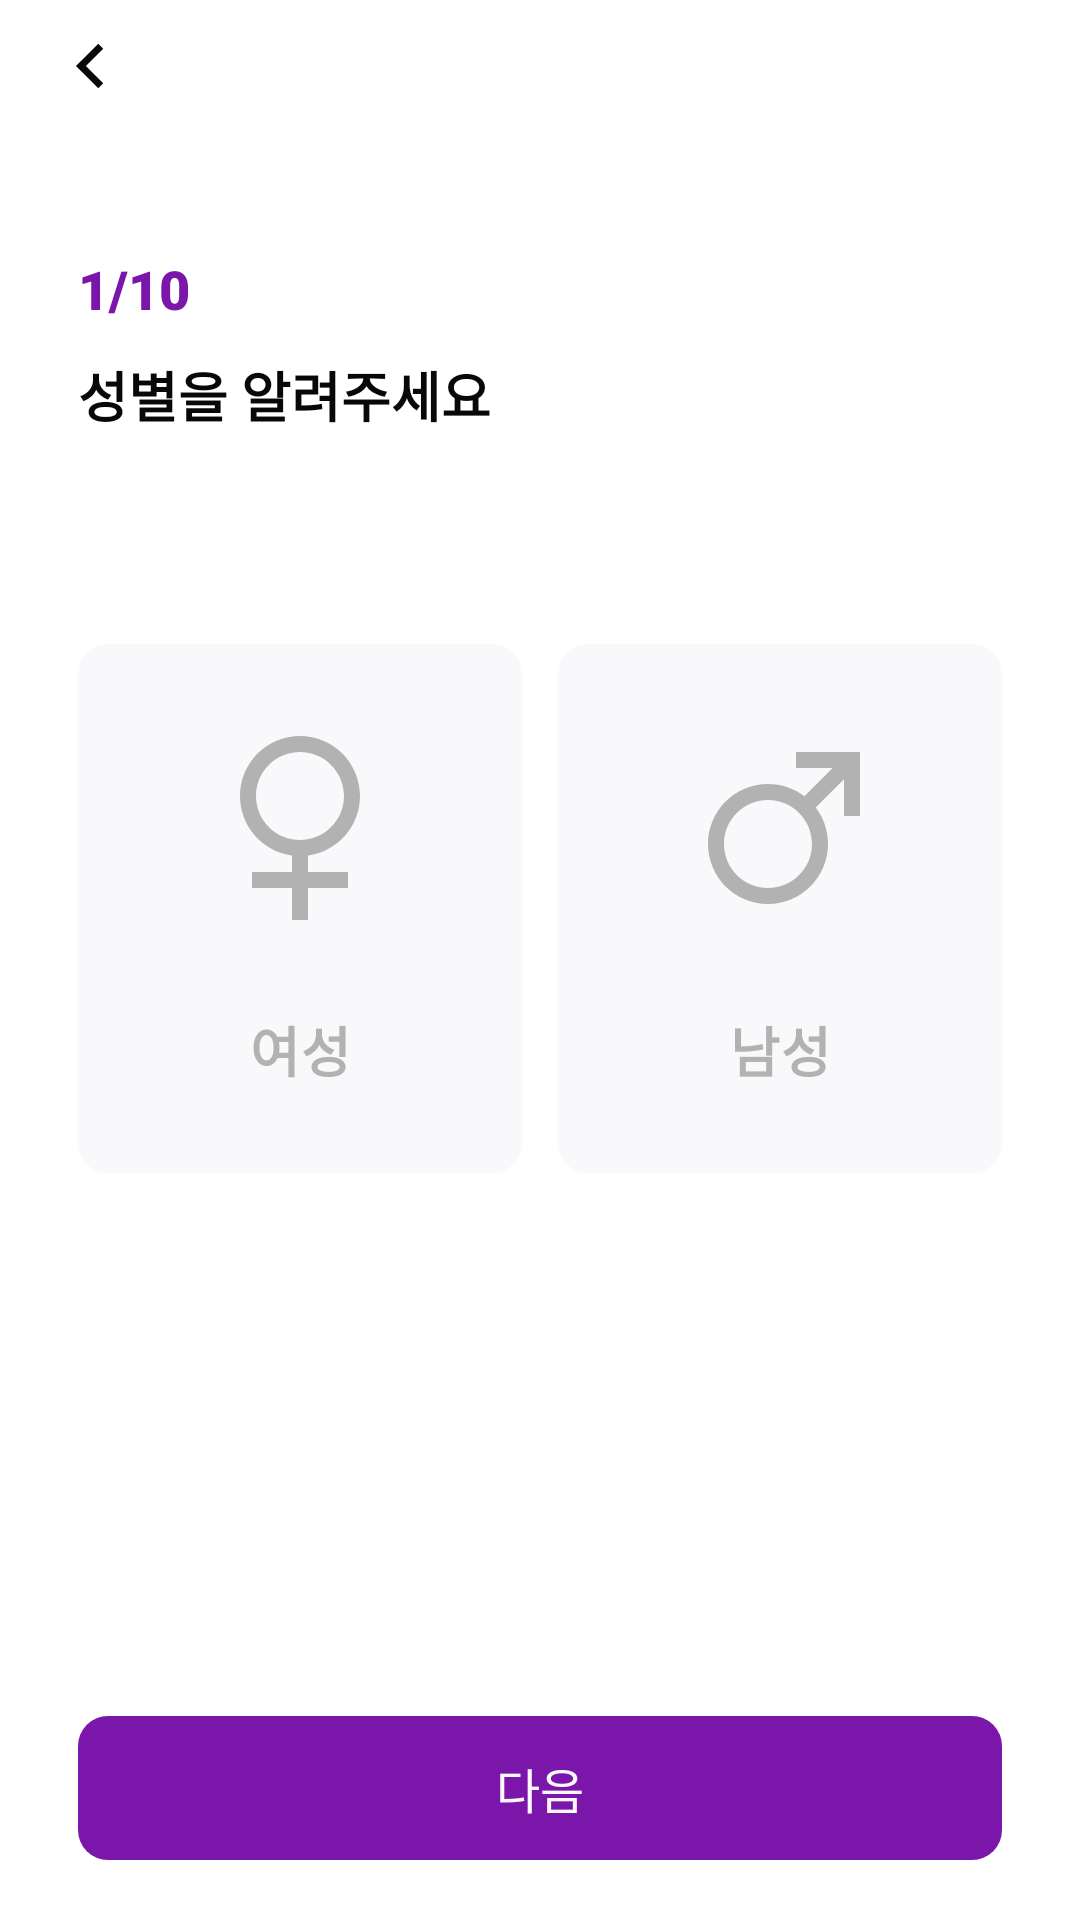

Screen size 1080*1920. Icon name, then its box in pixels as (x1, y1, x2, y2):
arrow: (76, 44, 103, 88)
